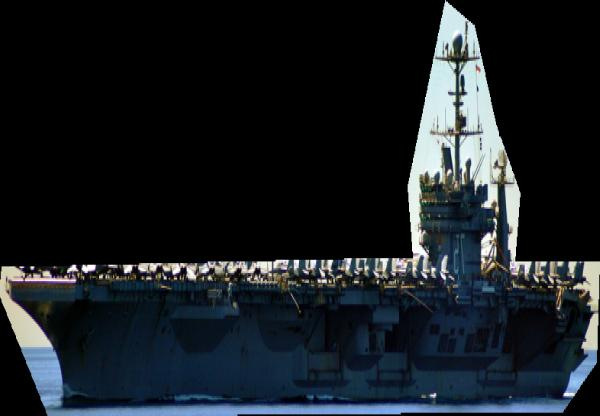Aircraft Carrier: (0, 0, 600, 416)
